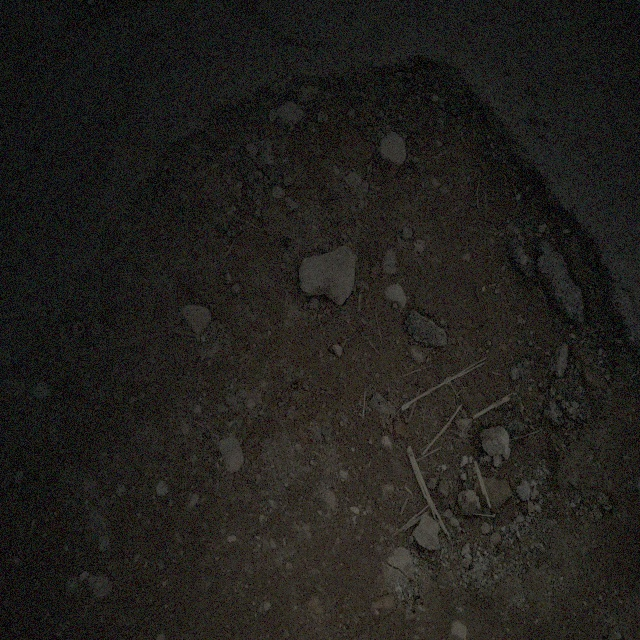pothole: (93, 50, 603, 395)
